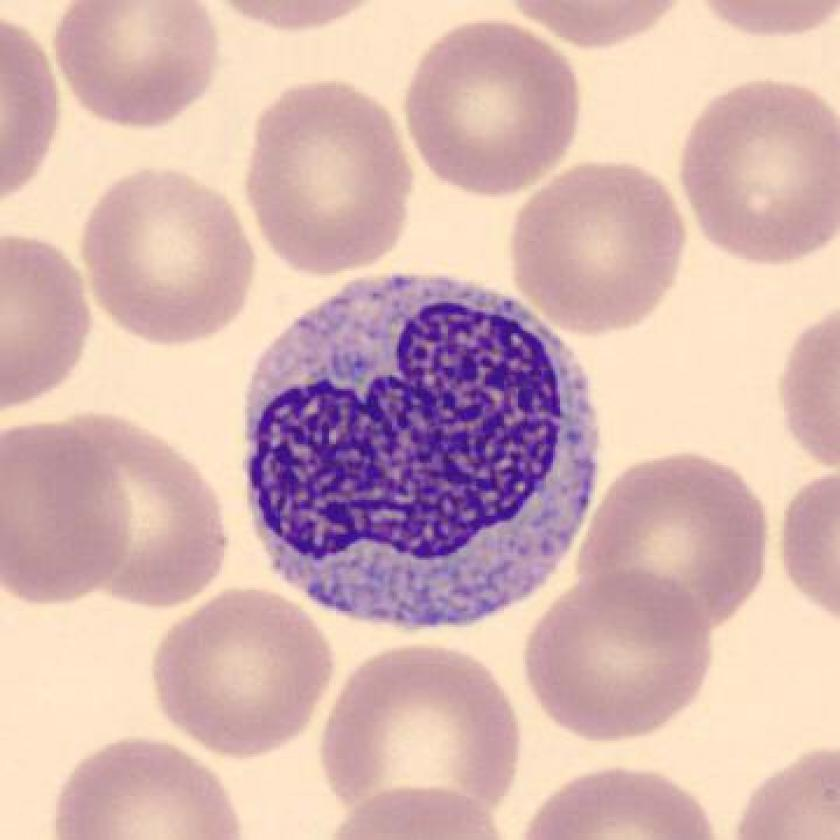monocyte: (223, 253, 626, 654)
